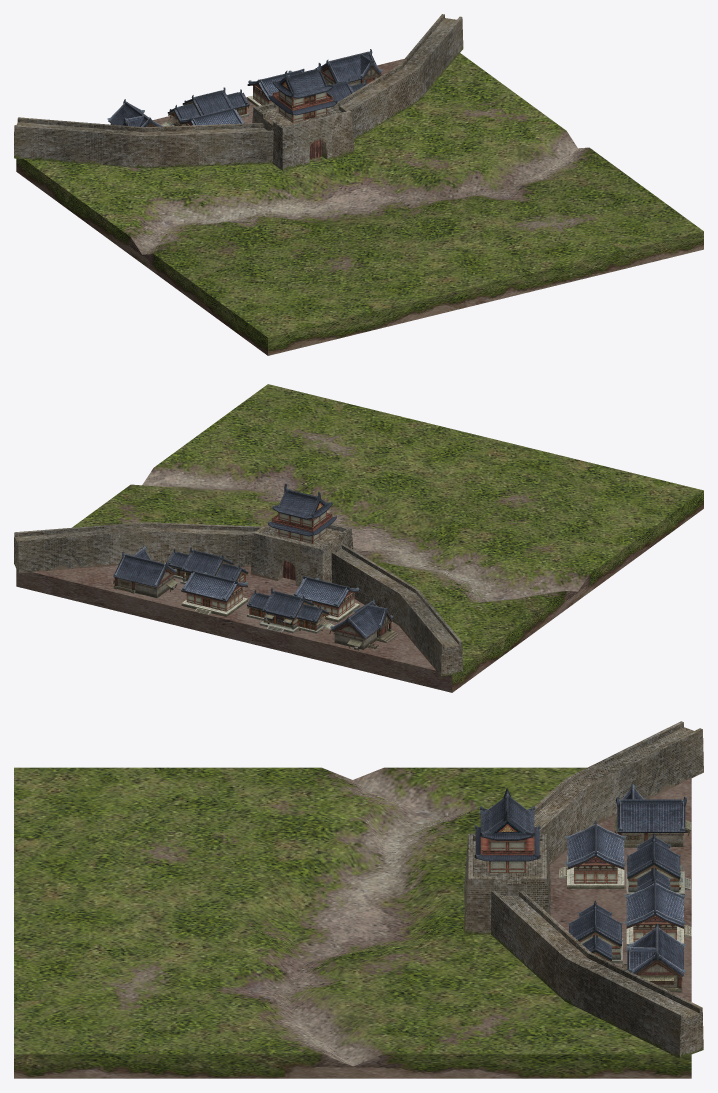
Rendered from map009.FBX.
The picture shows the model from 3 angles, top to bottom: view 1: azimuth 30°, elevation 25°; view 2: azimuth 150°, elevation 25°; view 3: azimuth 270°, elevation 25°; orthographic projection. The views are drawn at different scales.
Parts seen in each view (by area): view 1: map009, Box048, house202, house198, house201, house199; view 2: map009, Box048, house201, house198, house199, house202; view 3: map009, Box048, house199, house198, house201, house202.
Boxes of the visible parts, bbox=[...] form: map009: bbox=[16, 53, 703, 355]; Box048: bbox=[14, 14, 463, 170]; house202: bbox=[268, 63, 337, 122]; house198: bbox=[107, 49, 382, 127]; house201: bbox=[159, 78, 367, 126]; house199: bbox=[180, 68, 304, 125]; map009: bbox=[16, 384, 703, 692]; Box048: bbox=[14, 522, 463, 676]; house201: bbox=[163, 547, 334, 633]; house198: bbox=[113, 546, 398, 650]; house199: bbox=[181, 570, 359, 622]; house202: bbox=[268, 483, 336, 543]; map009: bbox=[14, 767, 691, 1078]; Box048: bbox=[464, 721, 703, 1058]; house199: bbox=[559, 821, 691, 946]; house198: bbox=[614, 784, 691, 992]; house201: bbox=[568, 833, 690, 963]; house202: bbox=[474, 788, 540, 872].
Size of the model in its own units: 103 by 22.42 by 102.
